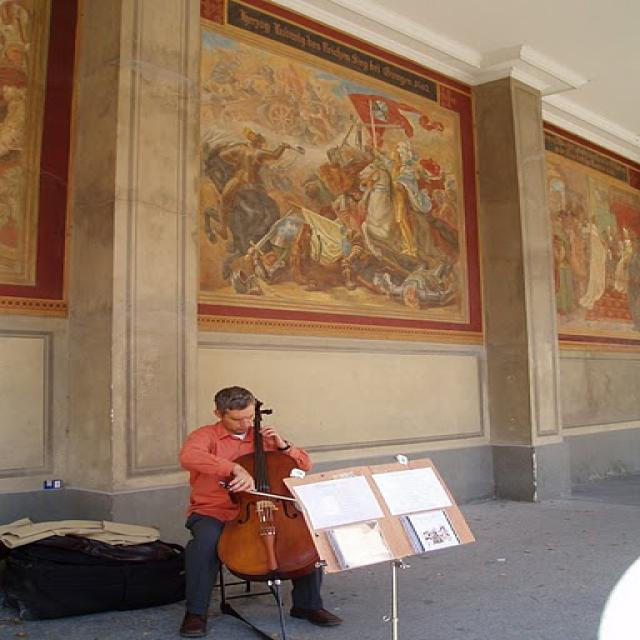cello: (213, 398, 329, 582)
